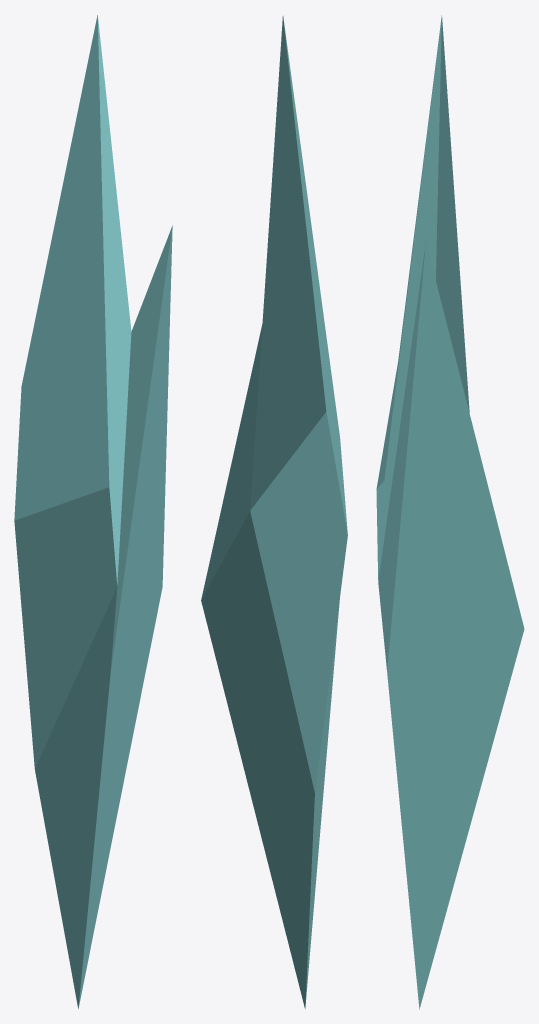
Rendered from buzok1.fbx.
3 renders of one model, left to right at view 1: azimuth 30°, elevation 25°; view 2: azimuth 150°, elevation 25°; view 3: azimuth 330°, elevation 25°, orthographic.
Visible parts, largest first — view 1: Cube.001; view 2: Cube.001; view 3: Cube.001.
Boxes of the visible parts, bbox=[...] form: Cube.001: bbox=[14, 15, 172, 1008]; Cube.001: bbox=[201, 15, 347, 1008]; Cube.001: bbox=[376, 15, 524, 1009].
Bounding box in the file's own units: 85.75 × 550 × 66.62.
